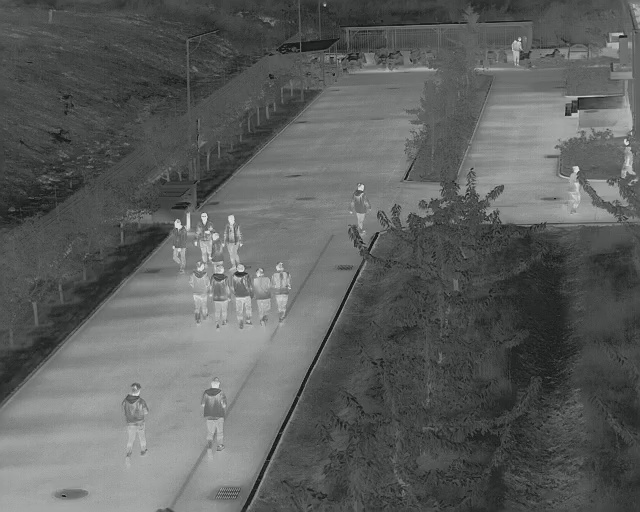person: (122, 383, 151, 468), (200, 377, 228, 453), (231, 265, 253, 329), (273, 261, 294, 325), (210, 264, 230, 330), (222, 214, 248, 264), (348, 180, 372, 233), (169, 219, 191, 273), (190, 261, 209, 323), (252, 268, 270, 333), (194, 211, 215, 264), (567, 164, 580, 213), (509, 34, 525, 70), (622, 137, 635, 180)
